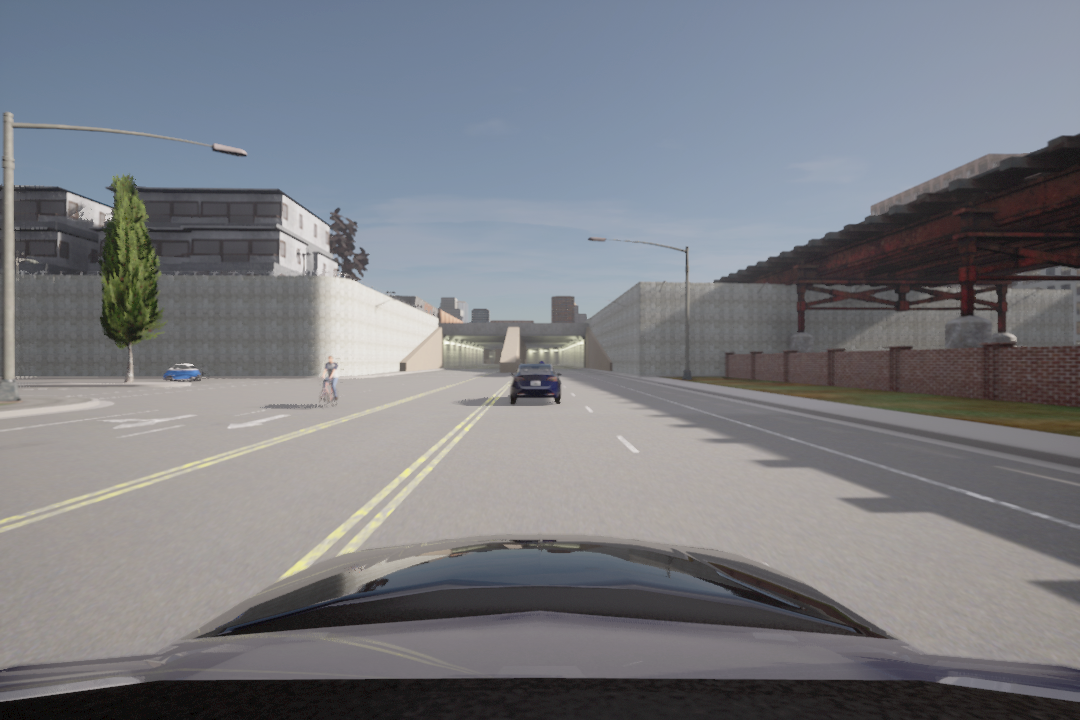RoadSign_forward: (222, 409, 289, 433)
RoadSign_forward_right: (98, 410, 196, 430)
